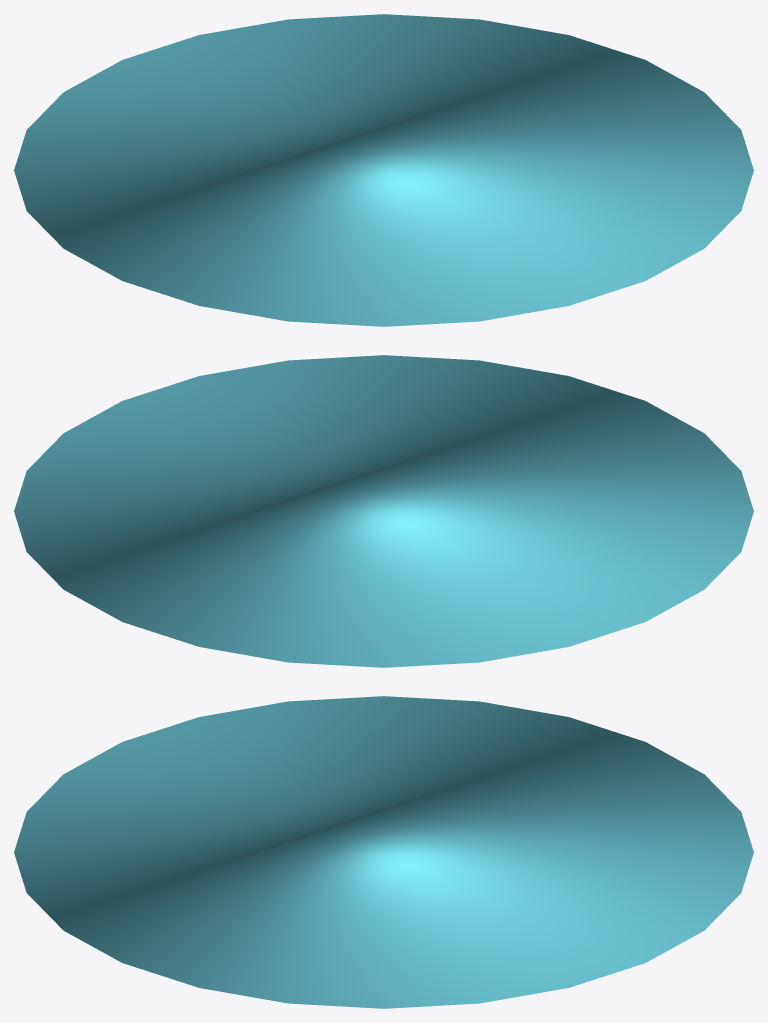
The model's file is energy_barrier_projector_shield.glb.
3 renders of one model, top to bottom at view 1: azimuth 30°, elevation 25°; view 2: azimuth 150°, elevation 25°; view 3: azimuth 270°, elevation 25°, orthographic.
Visible parts, largest first — view 1: energy_barrier_projector_shield; view 2: energy_barrier_projector_shield; view 3: energy_barrier_projector_shield.
Boxes of the visible parts, x1,y1,x2,y2 form: energy_barrier_projector_shield: [14, 14, 753, 326]; energy_barrier_projector_shield: [14, 355, 753, 667]; energy_barrier_projector_shield: [14, 696, 753, 1008].
Size of the model in its own units: 2.4 by 0.1 by 2.4.
